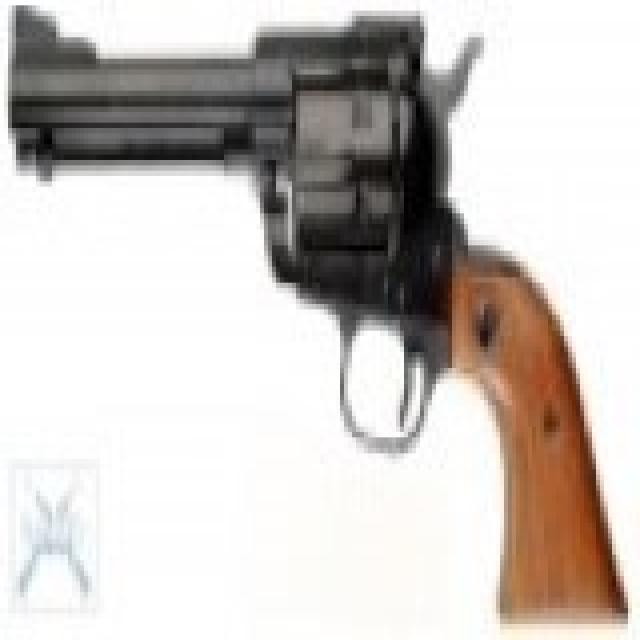Gun: (11, 18, 630, 617)
